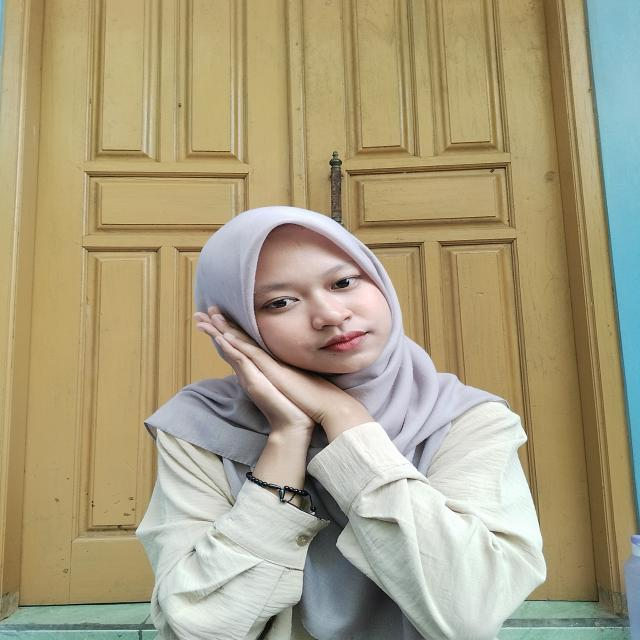tidur: (188, 303, 367, 475)
